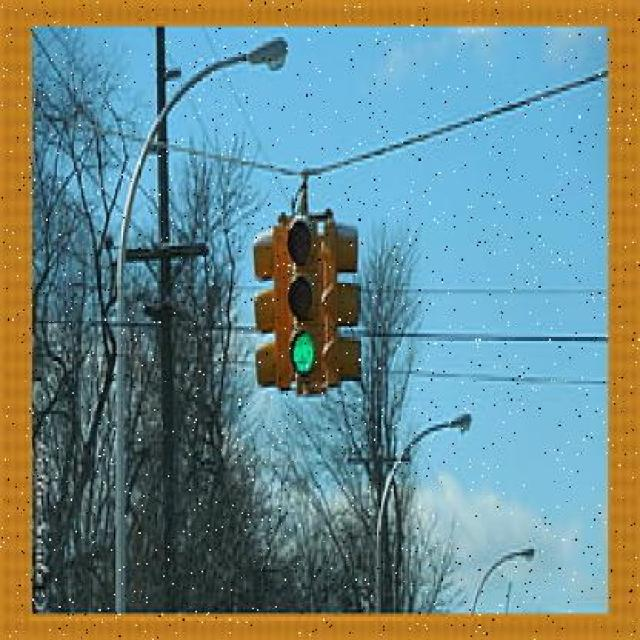green-light: (221, 167, 387, 418)
